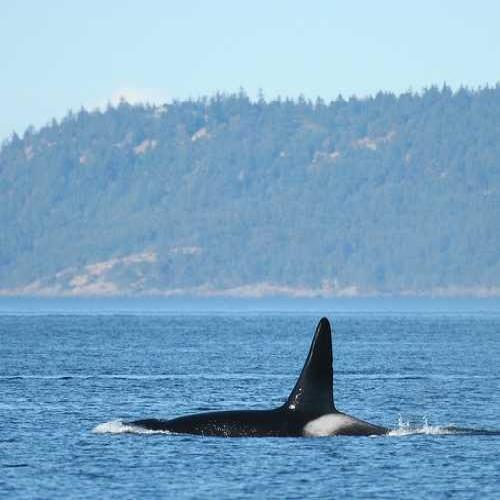killer_whale-endangered: (107, 313, 428, 457)
